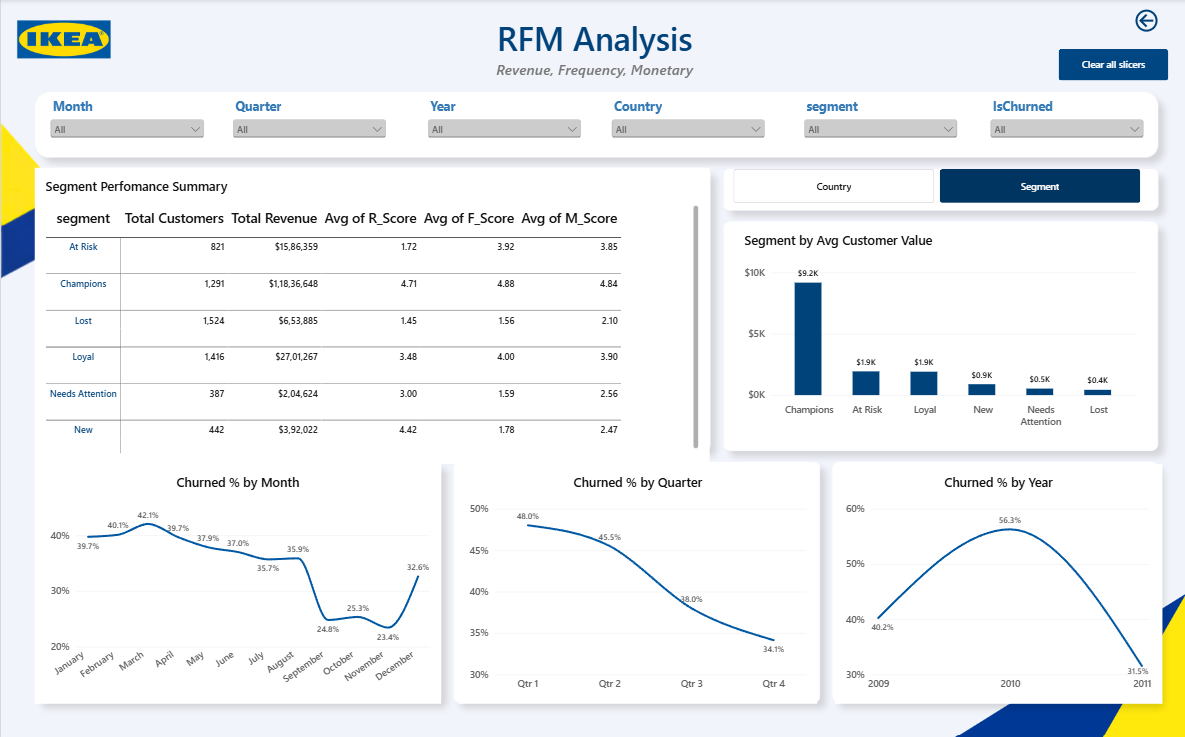

The dashboard page shown, as its layout file describes it:
{"tool":"powerbi","page":{"name":"RFM Analysis","canvas":[1750,1100],"ordinal":2},"visuals":[{"type":"slicer","fields":{"Values":["Sheet1.InvoiceDate.Variation.Date Hierarchy.Month"]},"box":[68.2,145.6,235.9,81.1],"z":0},{"type":"pivotTable","title":"Segment Perfomance Summary","fields":{"Rows":["Sheet1.segment"],"Values":["Sheet1.Total Customers","Sheet1.Total Revenue","Avg(Sheet1.R_Score)","Avg(Sheet1.F_Score)","Avg(Sheet1.M_Score)"]},"box":[49.8,248.8,995.3,436.8],"z":0,"group":"g2"},{"type":"lineChart","title":"Churned % by Month","fields":{"Category":["Sheet1.InvoiceDate.Variation.Date Hierarchy.Month"],"Y":["Sheet1.Churned %"]},"box":[49.8,685.7,599,353.9],"z":0,"group":"g1"},{"type":"slicer","fields":{"Values":["Sheet1.IsChurned"]},"box":[1454.3,145.6,235,81.1],"z":1000},{"type":"columnChart","title":"Segment by Avg Customer Value","fields":{"Category":["Sheet1.segment"],"Y":["Sheet1.Avg Customer Value"]},"box":[1080.1,328.1,610.1,322.6],"z":1000,"group":"g2"},{"type":"lineChart","fields":{"Category":["Sheet1.InvoiceDate.Variation.Date Hierarchy.Quarter"],"Y":["Sheet1.Churned %"]},"box":[674.6,685.7,529,353.9],"z":1000,"group":"g1"},{"type":"slicer","fields":{"Values":["Sheet1.segment"]},"box":[1179.6,145.6,235,81],"z":2000},{"type":"lineChart","fields":{"Category":["Sheet1.InvoiceDate.Variation.Date Hierarchy.Year"],"Y":["Sheet1.Churned %"]},"box":[1229.4,685.7,482.9,353.9],"z":2000,"group":"g1"},{"type":"slicer","fields":{"Values":["Sheet1.Country"]},"box":[895.8,145.6,235,81],"z":3000},{"type":"slicer","fields":{"Values":["Sheet1.InvoiceDate.Variation.Date Hierarchy.Year"]},"box":[624.8,145.6,235,81],"z":4000},{"type":"slicer","fields":{"Values":["Sheet1.InvoiceDate.Variation.Date Hierarchy.Quarter"]},"box":[337.3,145.6,235,81],"z":5000},{"type":"group","id":"g1","title":"Revenue","box":[49.8,685.7,1662.5,353.9],"z":6000},{"type":"image","box":[0,0,186.3,119.5],"z":7000},{"type":"textbox","box":[589.4,24.3,571.2,74.9],"z":8000},{"type":"actionButton","box":[1641.2,0,97,63.9],"z":9000},{"type":"actionButton","box":[1559.3,73.7,162,46.6],"z":10000},{"type":"textbox","box":[723.9,88.5,302.3,31.3],"z":11000},{"type":"group","id":"g2","title":"Segment","box":[49.8,248.8,1640.4,436.8],"z":13000},{"type":"bookmarkNavigator","box":[1080.1,248.8,600,50],"z":14000},{"type":"bookmarkNavigator","box":[1080.1,250.7,600,50],"z":14001}]}

Visuals, with their boxes in screenshot pixels (x1, y1, x2, y2), scaled from the page's 1750x1100 canvas onto the 1185x737 screenshot:
slicer - Sheet1.InvoiceDate.Variation.Date Hierarchy.Month: <region>46, 98, 206, 152</region>
"Segment Perfomance Summary" pivotTable: <region>34, 167, 708, 459</region>
"Churned % by Month" lineChart: <region>34, 459, 439, 697</region>
slicer - Sheet1.IsChurned: <region>985, 98, 1144, 152</region>
"Segment by Avg Customer Value" columnChart: <region>731, 220, 1145, 436</region>
lineChart - Sheet1.InvoiceDate.Variation.Date Hierarchy.Quarter x Sheet1.Churned %: <region>457, 459, 815, 697</region>
slicer - Sheet1.segment: <region>799, 98, 958, 152</region>
lineChart - Sheet1.InvoiceDate.Variation.Date Hierarchy.Year x Sheet1.Churned %: <region>832, 459, 1159, 697</region>
slicer - Sheet1.Country: <region>607, 98, 766, 152</region>
slicer - Sheet1.InvoiceDate.Variation.Date Hierarchy.Year: <region>423, 98, 582, 152</region>
slicer - Sheet1.InvoiceDate.Variation.Date Hierarchy.Quarter: <region>228, 98, 388, 152</region>
"Revenue" group: <region>34, 459, 1159, 697</region>
image: <region>0, 0, 126, 80</region>
textbox: <region>399, 16, 786, 66</region>
actionButton: <region>1111, 0, 1177, 43</region>
actionButton: <region>1056, 49, 1166, 81</region>
textbox: <region>490, 59, 695, 80</region>
"Segment" group: <region>34, 167, 1145, 459</region>
bookmarkNavigator: <region>731, 167, 1138, 200</region>
bookmarkNavigator: <region>731, 168, 1138, 201</region>
